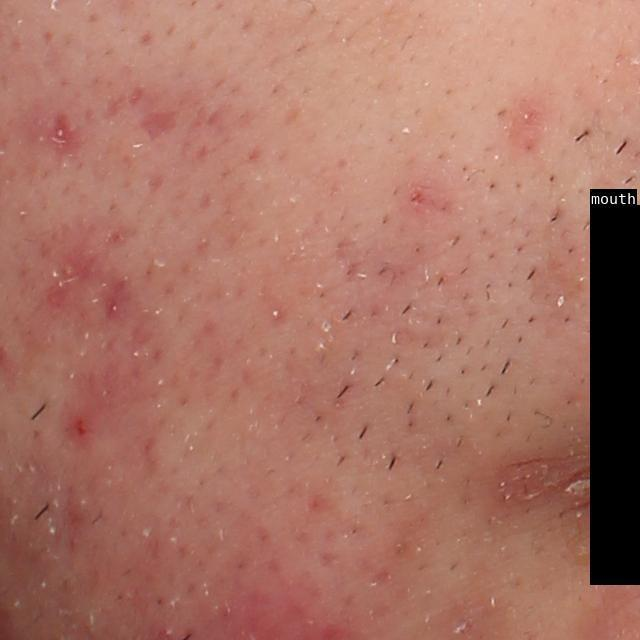atrophic_scar: (134, 107, 183, 151)
papule: (58, 408, 106, 455)
